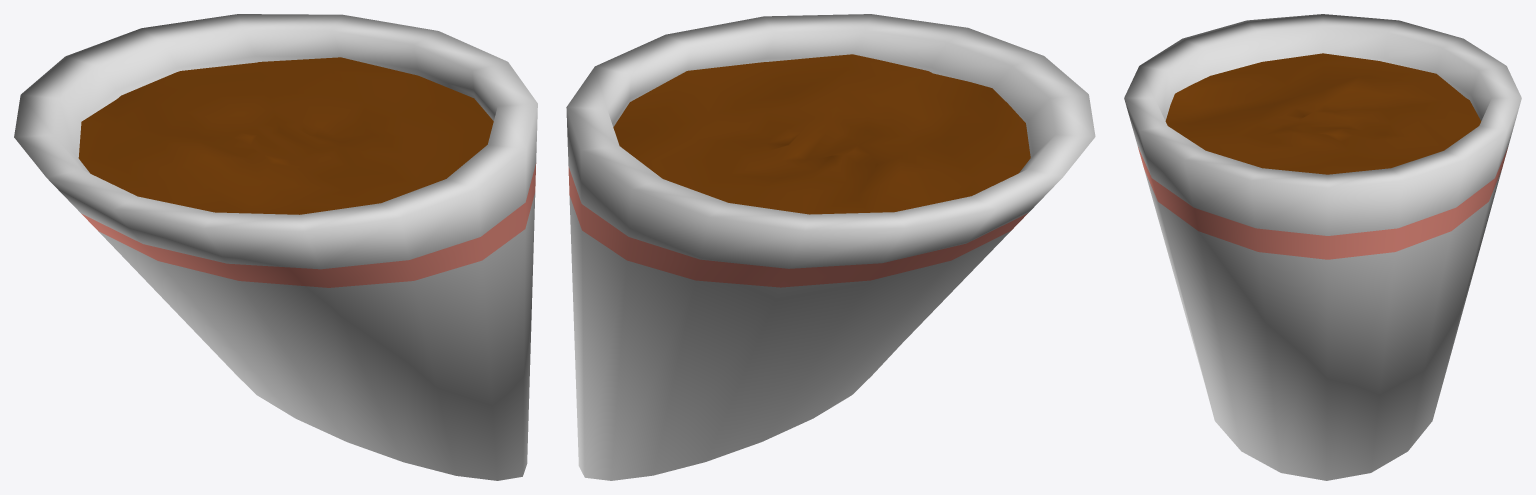
File: flowerpot.fbx
The picture shows the model from 3 angles, left to right: view 1: azimuth 30°, elevation 25°; view 2: azimuth 150°, elevation 25°; view 3: azimuth 270°, elevation 25°; orthographic projection. The views are drawn at different scales.
Parts seen in each view (by area): view 1: Circle, Circle.001; view 2: Circle, Circle.001; view 3: Circle, Circle.001.
Part boxes in pixels (x1,y1,x2,y2): Circle: (14,14,537,480); Circle.001: (78,57,493,214); Circle: (566,14,1095,480); Circle.001: (613,54,1030,214); Circle: (1124,14,1521,480); Circle.001: (1165,53,1481,174).
Bounding box in the file's own units: 207 × 163 × 200.
